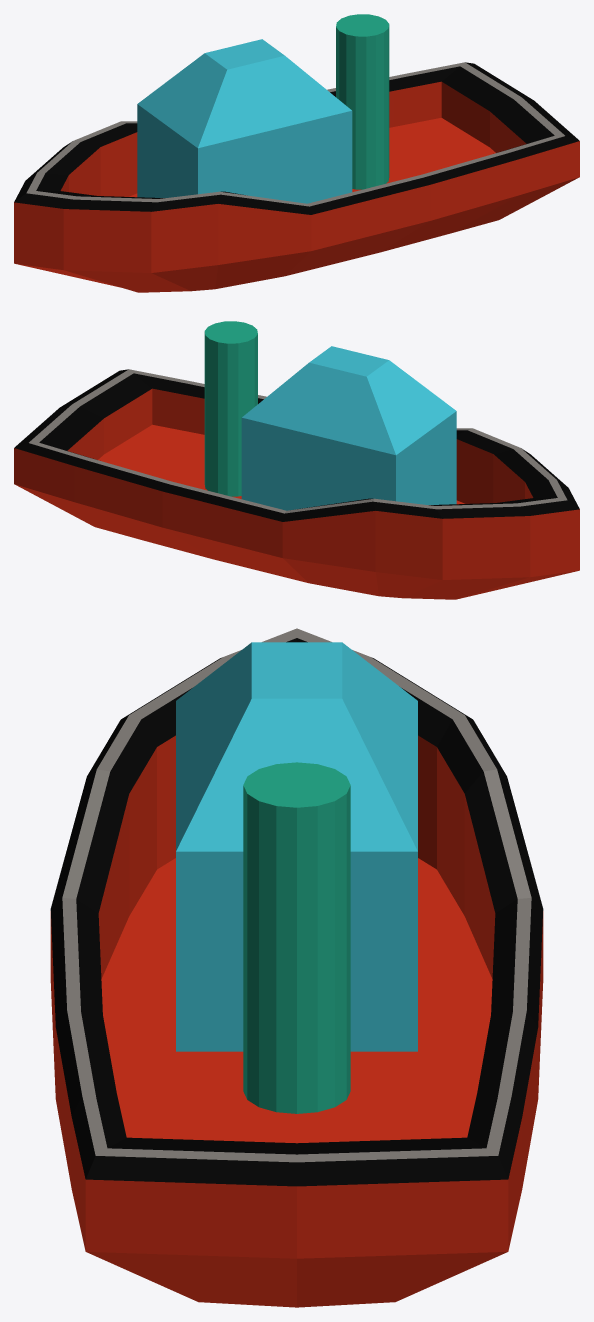
File: SteamBoat.fbx
The picture shows the model from 3 angles, top to bottom: view 1: azimuth 30°, elevation 25°; view 2: azimuth 150°, elevation 25°; view 3: azimuth 270°, elevation 25°; orthographic projection. The views are drawn at different scales.
Parts seen in each view (by area): view 1: Hull.001, Cube, Cylinder; view 2: Hull.001, Cube, Cylinder; view 3: Hull.001, Cube, Cylinder.
Boxes of the visible parts, box(x1,y1,x2,y2) form: Hull.001: box(14, 62, 579, 292); Cube: box(137, 39, 352, 203); Cylinder: box(336, 14, 389, 189); Hull.001: box(14, 369, 579, 599); Cube: box(241, 346, 456, 510); Cylinder: box(204, 321, 257, 496); Hull.001: box(50, 628, 543, 1307); Cube: box(176, 642, 417, 1051); Cylinder: box(243, 762, 350, 1113).
Size of the model in its own units: 774 by 290 by 317.
